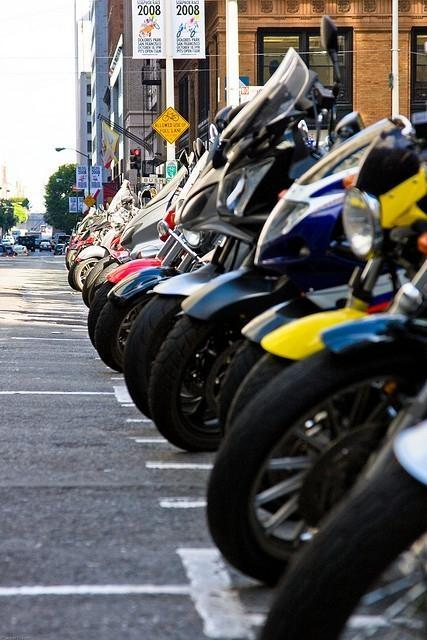car: (54, 234, 70, 253), (10, 245, 29, 258), (40, 241, 52, 252), (1, 240, 12, 246)
motorcycle: (132, 106, 425, 462), (122, 113, 366, 424), (204, 261, 427, 590), (92, 49, 312, 371), (217, 130, 427, 446), (269, 414, 424, 626), (214, 262, 355, 443), (87, 204, 187, 342), (86, 168, 189, 300), (66, 176, 138, 292), (66, 202, 110, 271)
